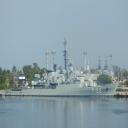Fragata: (6, 59, 120, 99)
